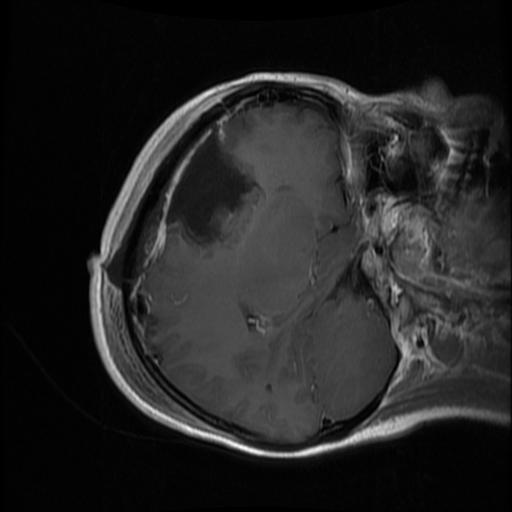glioma: (163, 127, 258, 247)
